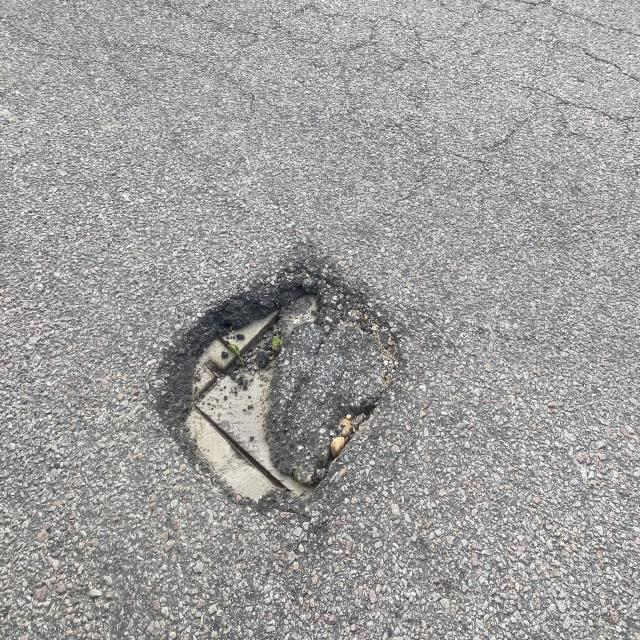Pothole: (115, 196, 460, 563)
